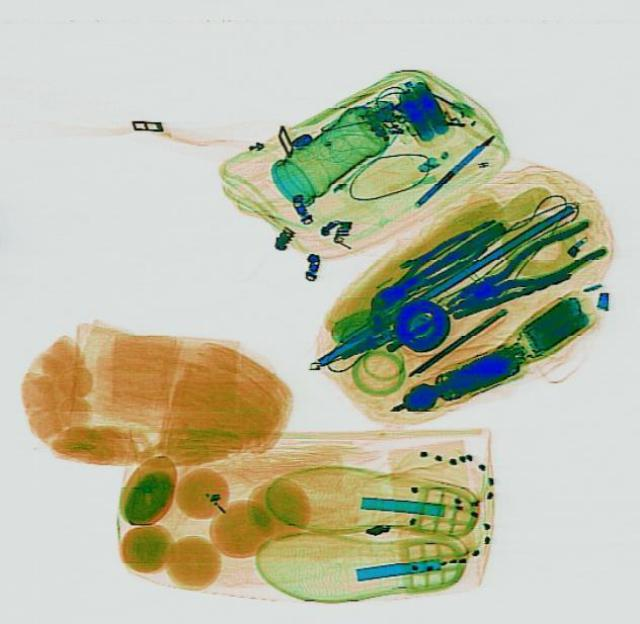Pliers: (434, 213, 610, 327), (358, 209, 510, 319)
